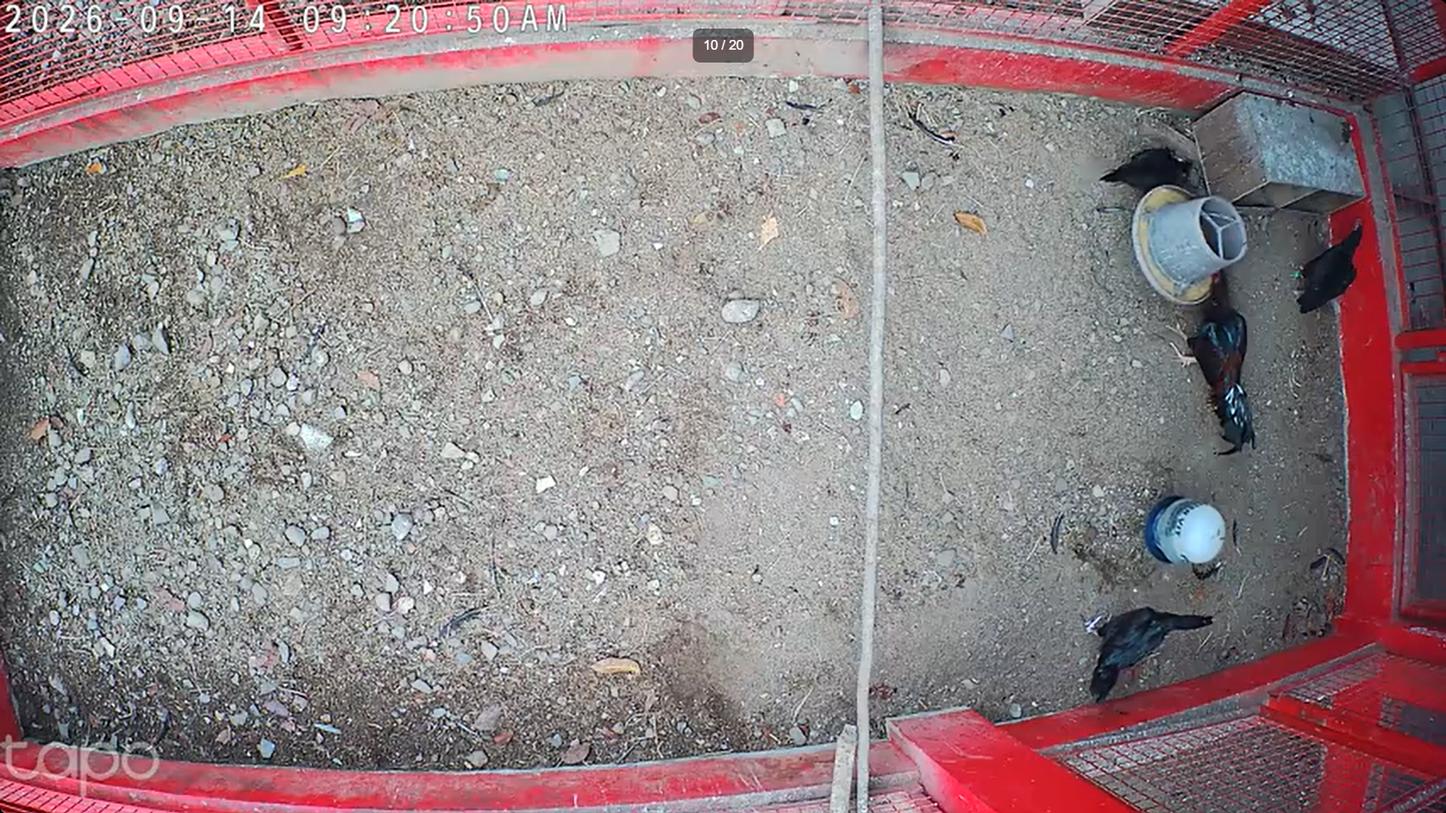Chicken: (1077, 598, 1221, 709), (1292, 212, 1367, 317), (1099, 144, 1197, 195)
Leg_Band_Green: (1290, 268, 1301, 279)
Leg_Band_White: (1085, 612, 1102, 635)
Rooster: (1161, 262, 1257, 464)
